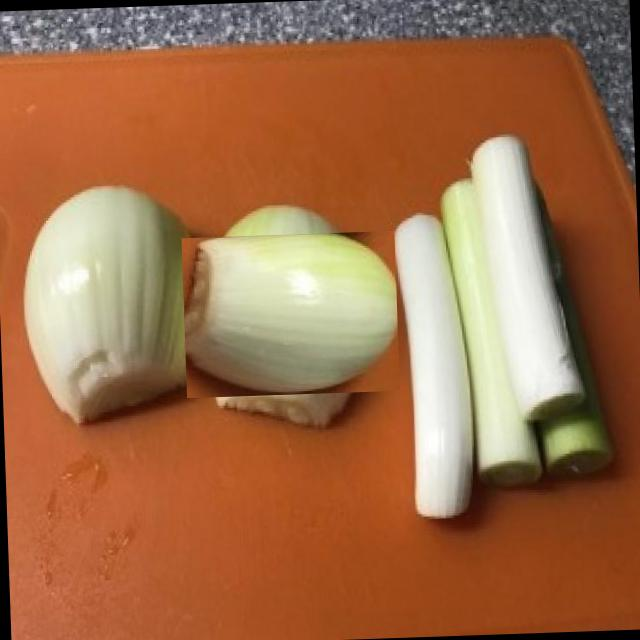Onion: (13, 184, 209, 408), (194, 218, 386, 410)
